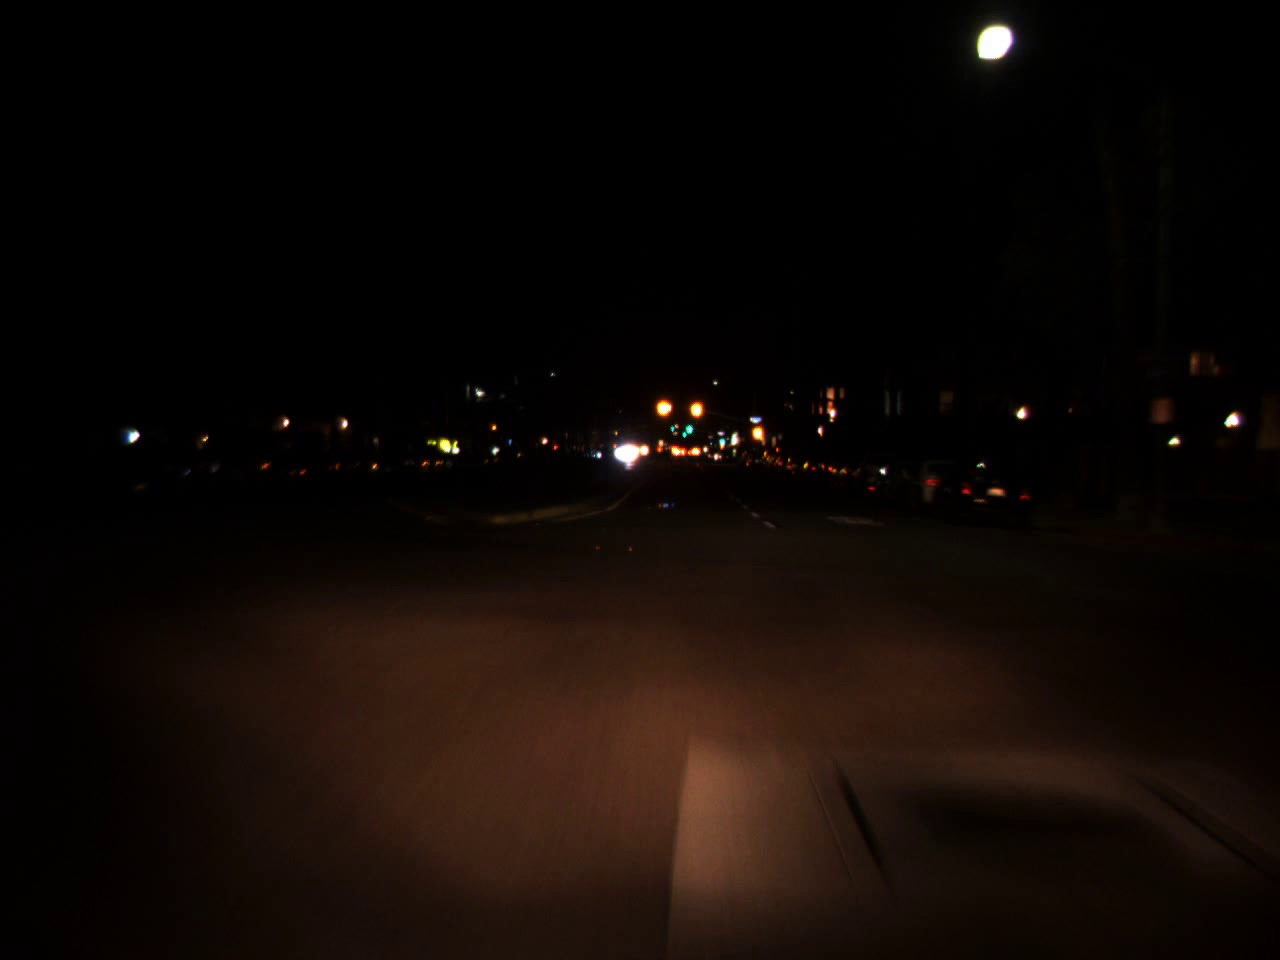go: (683, 415, 693, 436), (717, 432, 724, 444)
warning: (749, 413, 767, 453), (688, 389, 706, 429), (655, 391, 673, 423)
